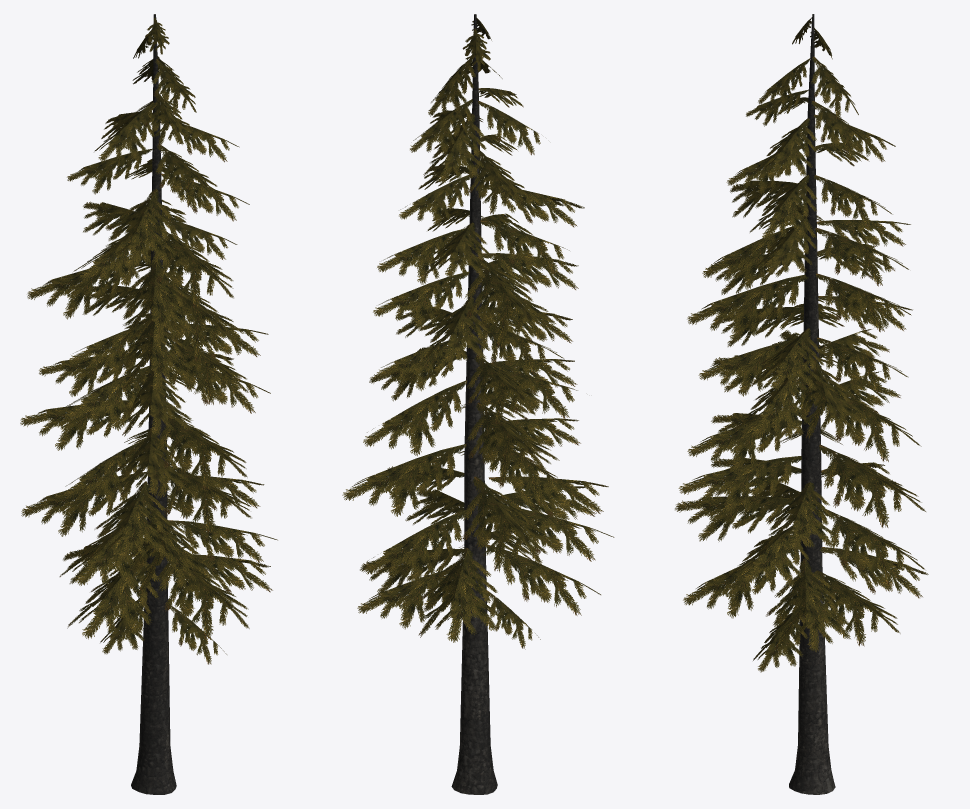
File: pine_tree_n_3.glb
3 renders of one model, left to right at view 1: azimuth 30°, elevation 25°; view 2: azimuth 150°, elevation 25°; view 3: azimuth 270°, elevation 25°, orthographic.
Visible parts, largest first — view 1: pine_tree_n_3_branches, pine_tree_n_3; view 2: pine_tree_n_3_branches, pine_tree_n_3; view 3: pine_tree_n_3_branches, pine_tree_n_3.
Boxes of the visible parts, <box> form: pine_tree_n_3_branches: <box>20,18,277,664</box>; pine_tree_n_3: <box>131,14,176,794</box>; pine_tree_n_3_branches: <box>342,18,614,649</box>; pine_tree_n_3: <box>451,14,497,794</box>; pine_tree_n_3_branches: <box>675,17,928,672</box>; pine_tree_n_3: <box>789,14,835,794</box>.
Size of the model in its own units: 3.39 by 10.11 by 3.57.
Materials: 2 (2 with a texture image).
